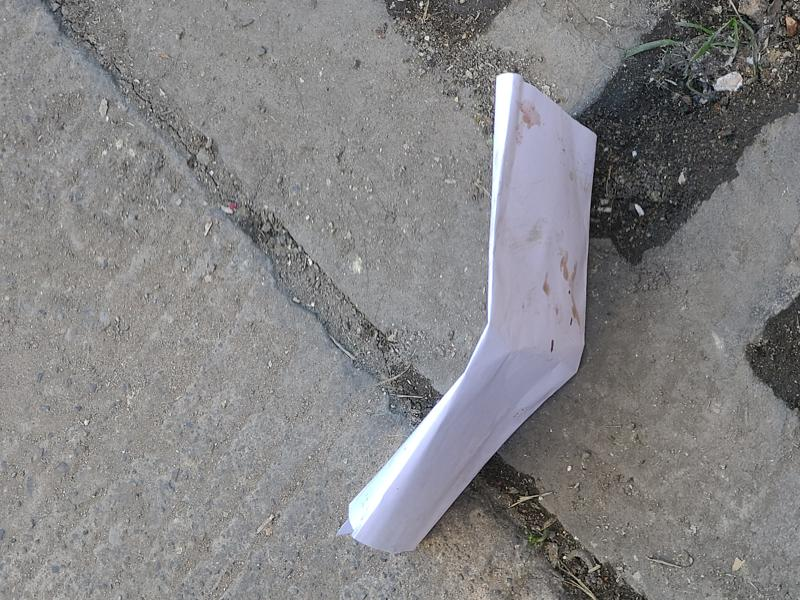papel: (342, 73, 597, 556)
